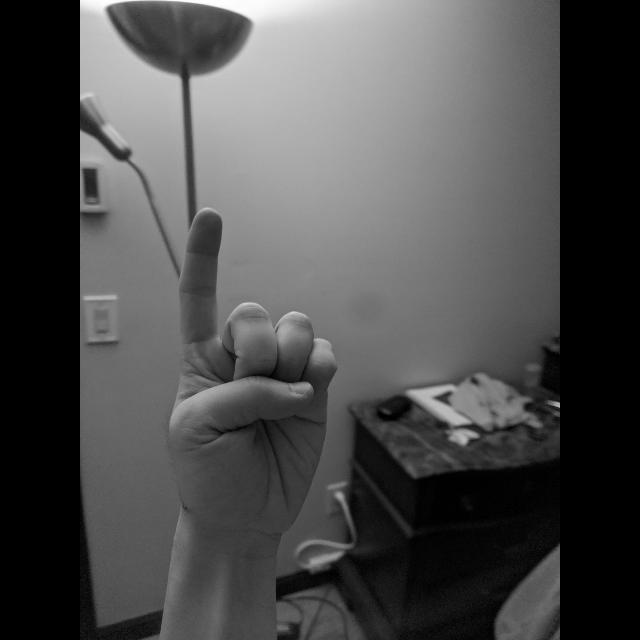D: (162, 202, 344, 552)
